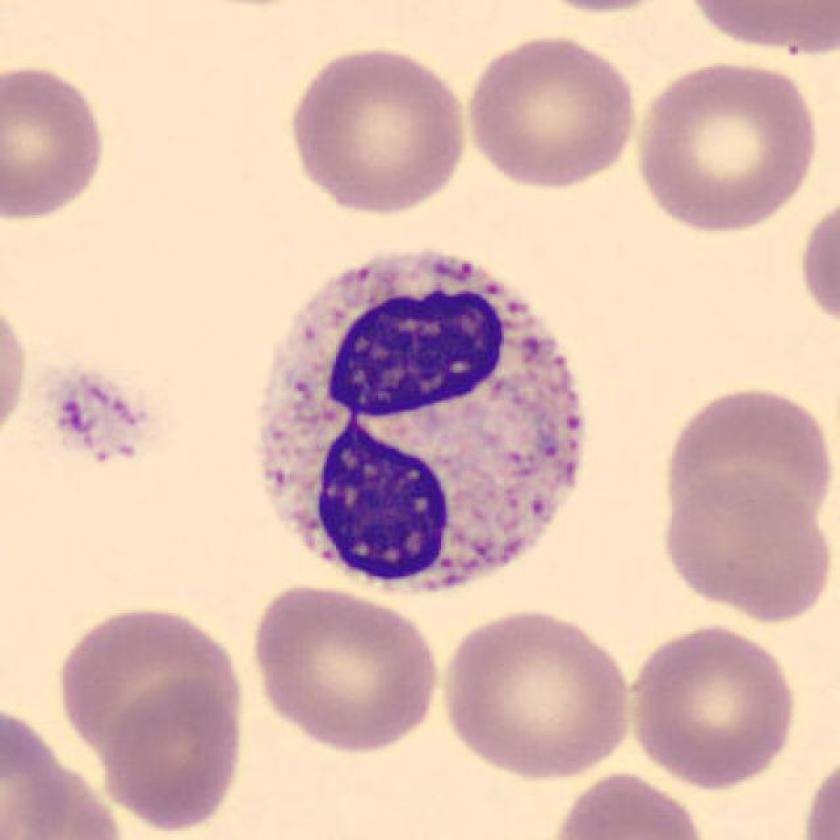neutrophil: (260, 253, 588, 593)
